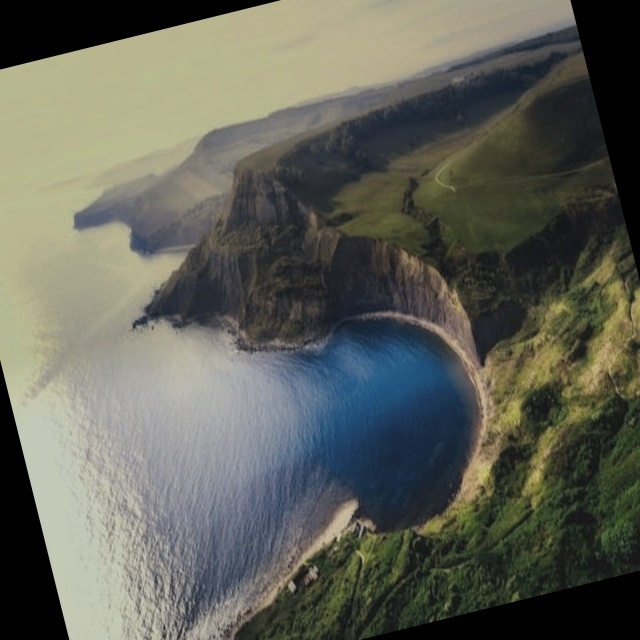algae_bloom: (309, 398, 640, 640)
clean_water: (13, 13, 627, 627)
foam_scum: (0, 320, 168, 640)
oil_spill: (468, 0, 640, 361), (368, 480, 640, 640), (238, 194, 406, 344), (0, 370, 67, 640), (0, 0, 268, 67)
turbid_water: (0, 0, 640, 640)
